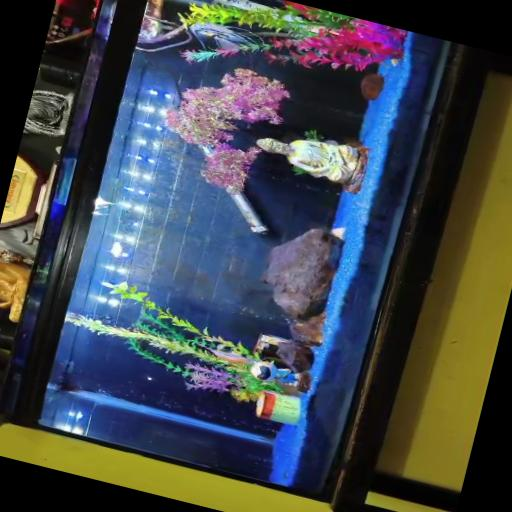Fish: (192, 22, 253, 50), (207, 347, 254, 363), (93, 195, 115, 215)
